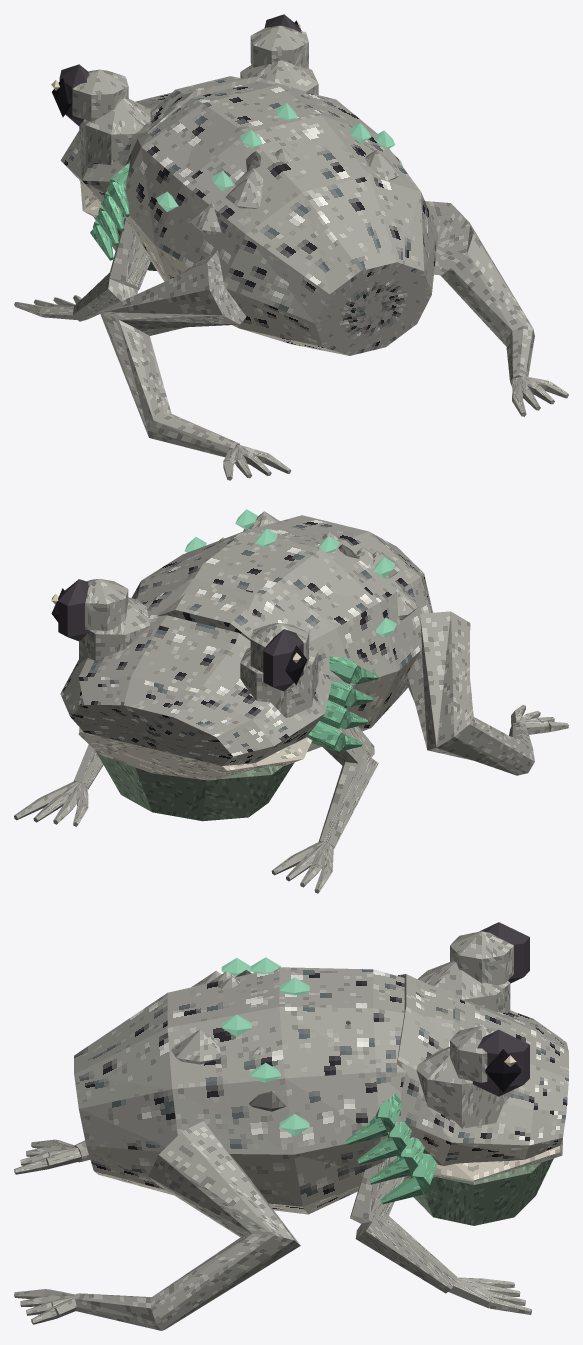
File: mon_pattern_giganfrog.glb
3 renders of one model, top to bottom at view 1: azimuth 30°, elevation 25°; view 2: azimuth 150°, elevation 25°; view 3: azimuth 270°, elevation 25°, orthographic. The views are drawn at different scales.
Visible parts, largest first — view 1: closed_body (×2); view 2: closed_body (×2); view 3: closed_body (×2).
Part boxes in pixels (x1=…): closed_body (×2): x1=14, y1=14, x2=568, y2=480; closed_body (×2): x1=14, y1=509, x2=568, y2=893; closed_body (×2): x1=14, y1=922, x2=568, y2=1330.
Size of the model in its own units: 1.3 by 0.791 by 1.5.
2 materials, 2 textured.
